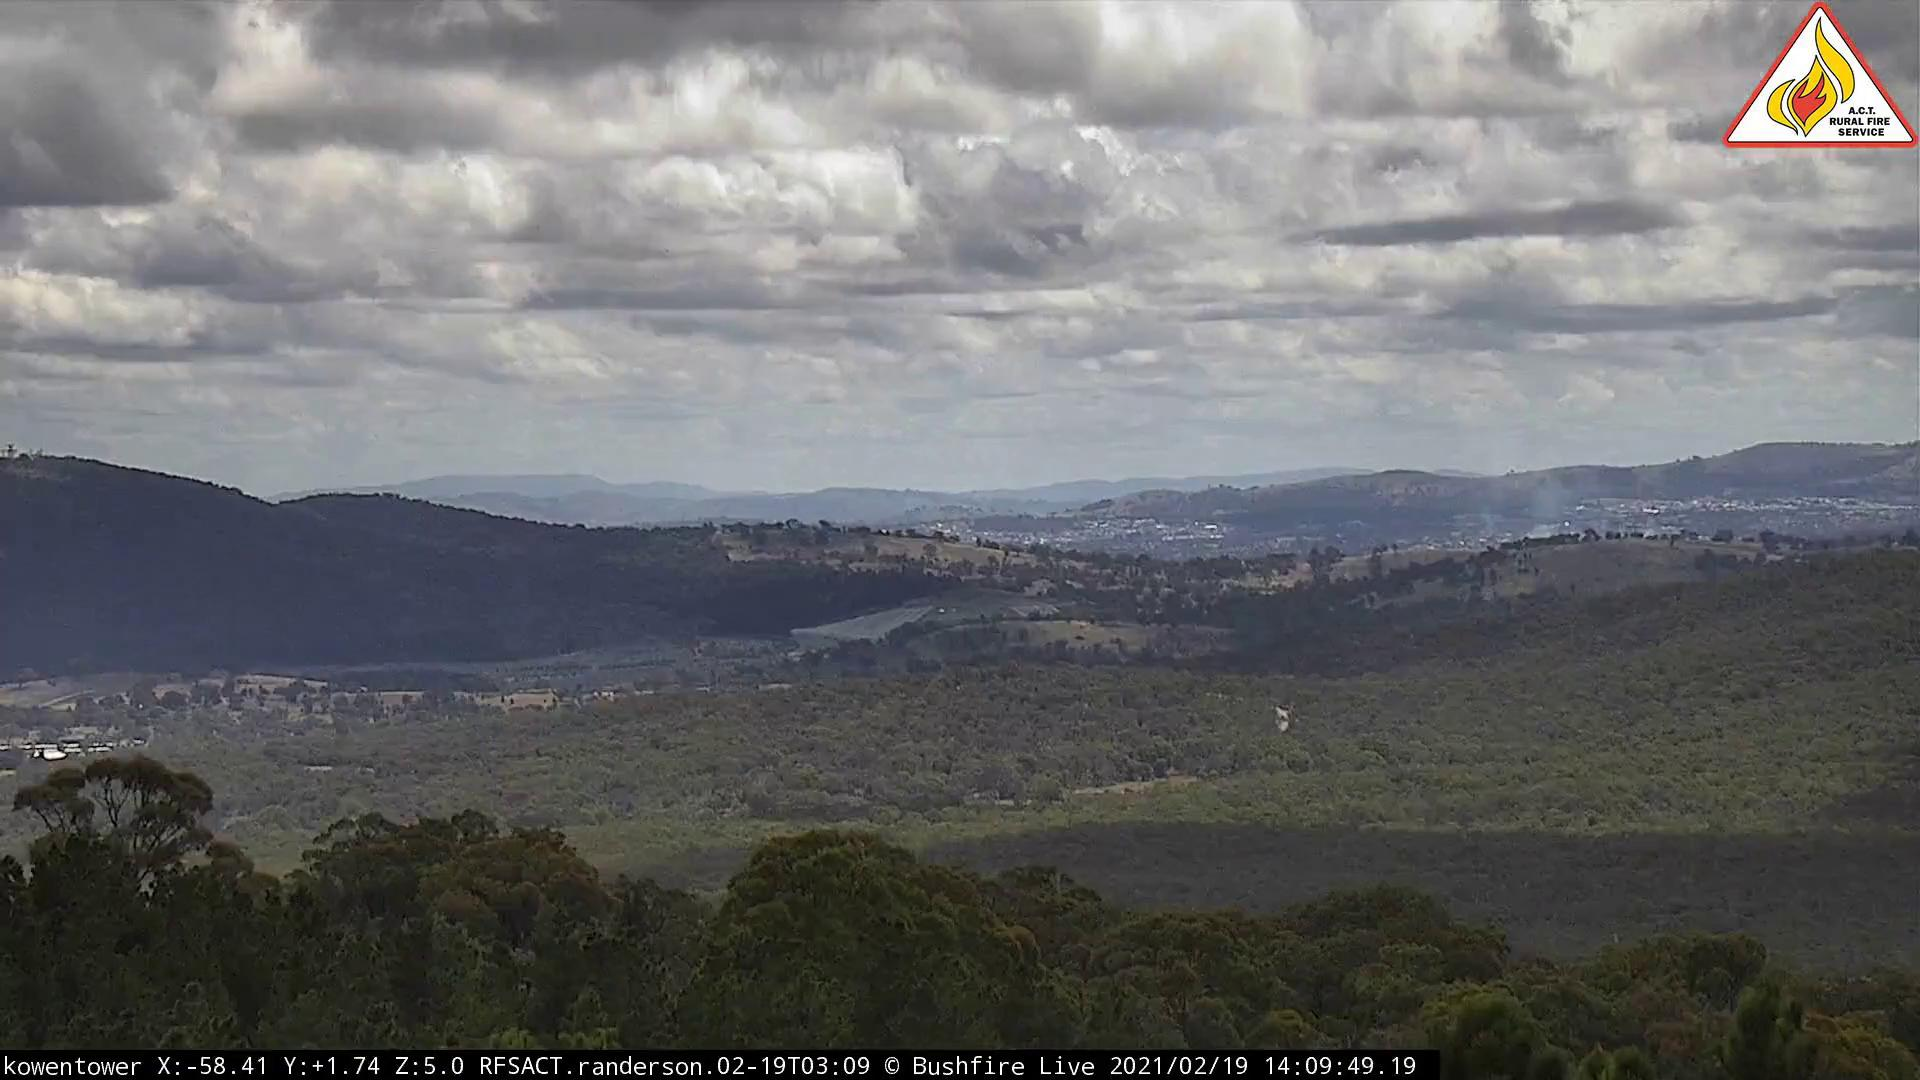Smoke: (1522, 465, 1621, 550)
